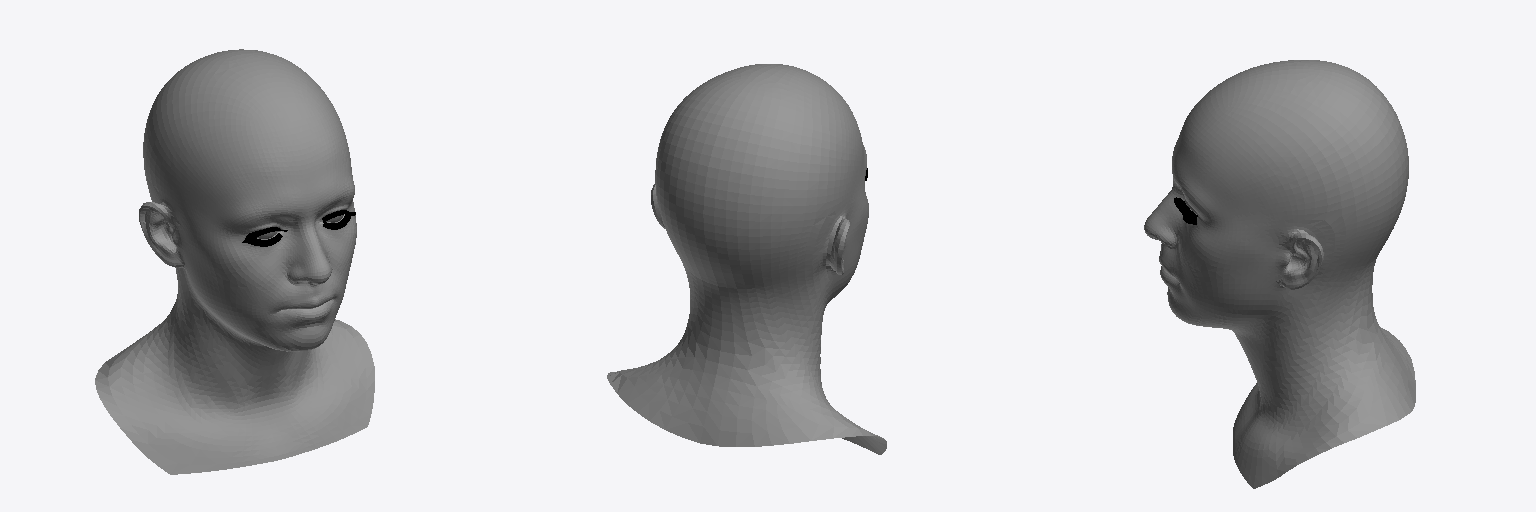
Rendered from mouthPress_R.obj.
3 renders of one model, left to right at view 1: azimuth 30°, elevation 25°; view 2: azimuth 150°, elevation 25°; view 3: azimuth 270°, elevation 25°, orthographic.
Size of the model in its own units: 24.83 by 33.81 by 22.27.